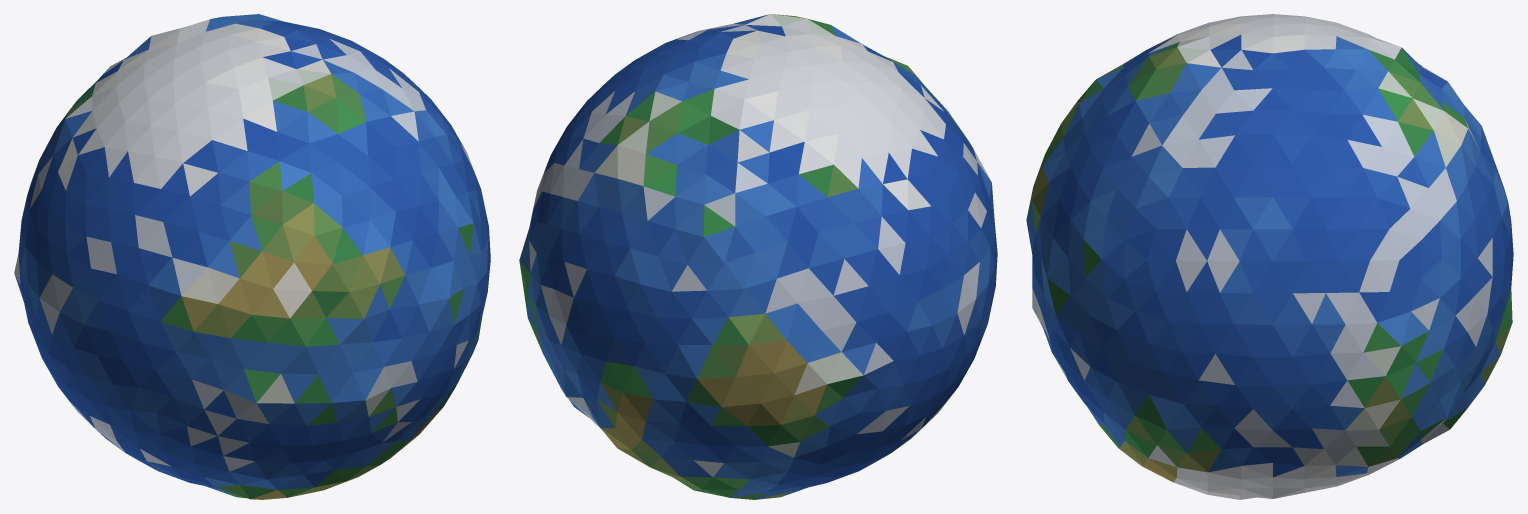
The model's file is earth.glb.
3 renders of one model, left to right at view 1: azimuth 30°, elevation 25°; view 2: azimuth 150°, elevation 25°; view 3: azimuth 270°, elevation 25°, orthographic. The views are drawn at different scales.
Visible parts, largest first — view 1: earth_body; view 2: earth_body; view 3: earth_body.
Part boxes in pixels (x1,y1,x2,y2): earth_body: (14,14,490,499); earth_body: (519,14,997,499); earth_body: (1026,14,1513,499).
Bounding box in the file's own units: 2 × 2.03 × 2.02.
